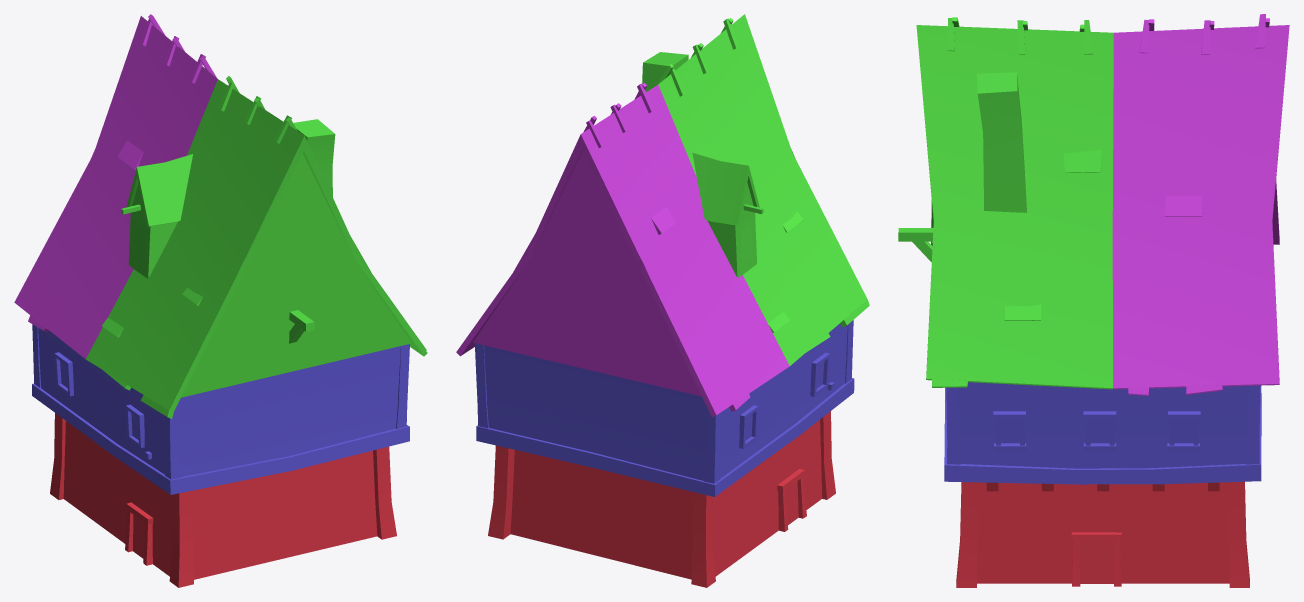
Rendered from House_4_materials.fbx.
3 renders of one model, left to right at view 1: azimuth 30°, elevation 25°; view 2: azimuth 150°, elevation 25°; view 3: azimuth 270°, elevation 25°, orthographic. The views are drawn at different scales.
Parts seen in each view (by area): view 1: City_House_Buttom_01_LOD0; view 2: City_House_Buttom_01_LOD0; view 3: City_House_Buttom_01_LOD0.
Part boxes in pixels (x1,y1,x2,y2): City_House_Buttom_01_LOD0: [14, 14, 427, 587]; City_House_Buttom_01_LOD0: [456, 14, 869, 587]; City_House_Buttom_01_LOD0: [898, 14, 1289, 587].
Bounding box in the file's own units: 1326 × 2151 × 1488.
